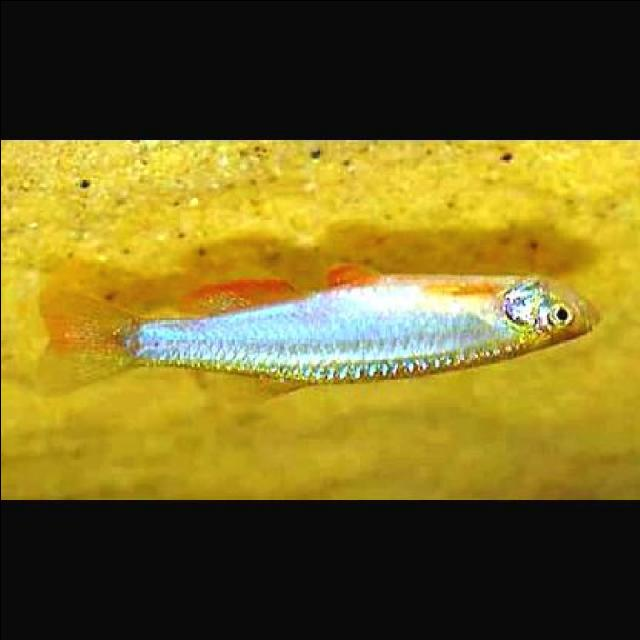ZebraFish: (41, 269, 598, 389)
